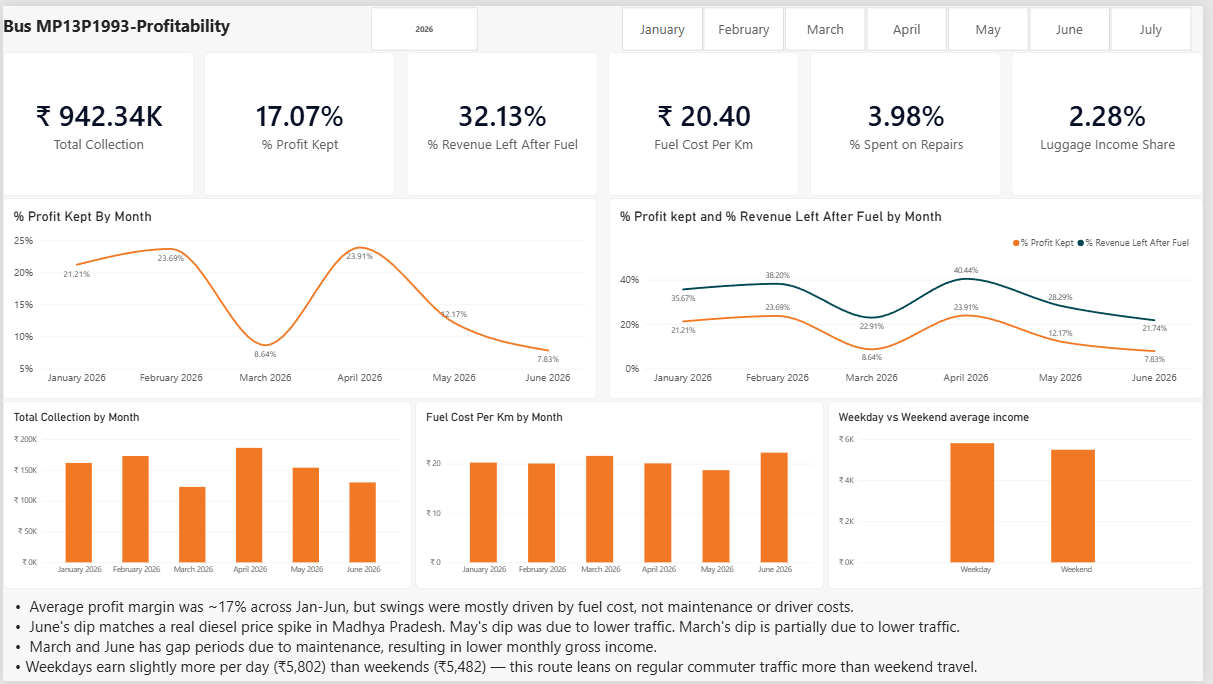

The page's visual inventory and layout, read from the dashboard file:
{"tool":"powerbi","page":{"name":"Page 1","canvas":[1920,1080],"ordinal":0},"visuals":[{"type":"cardVisual","fields":{"Data":["_Measures.Gross_Income"]},"box":[0,73.6,305,230],"z":0},{"type":"cardVisual","fields":{"Data":["_Measures.Net_Profit_Margin"]},"box":[322.9,73.6,305,230],"z":1000},{"type":"cardVisual","fields":{"Data":["_Measures.Gross_Margin_Ex_Fuel"]},"box":[645.8,73.6,305,230],"z":2000},{"type":"cardVisual","fields":{"Data":["_Measures.Fuel_Cost_Per_Km"]},"box":[968.7,73.6,305,230],"z":3000},{"type":"cardVisual","fields":{"Data":["_Measures.Maintenance_Exp_Share"]},"box":[1291.6,73.6,305,230],"z":4000},{"type":"cardVisual","fields":{"Data":["_Measures.Luggage_Revenue_Share"]},"box":[1614.5,73.6,305,230],"z":5000},{"type":"lineChart","title":"% Profit Kept By Month","fields":{"Category":["Calendar.MonthYear"],"Y":["_Measures.Net_Profit_Margin"]},"box":[0,307,950,320],"z":6000},{"type":"lineChart","title":"% Profit kept and % Revenue Left After Fuel by Month","fields":{"Category":["Calendar.MonthYear"],"Y":["_Measures.Net_Profit_Margin","_Measures.Gross_Margin_Ex_Fuel"]},"box":[969.5,307,950,320],"z":7000},{"type":"clusteredColumnChart","title":"Total Collection by Month","fields":{"Category":["Calendar.MonthYear"],"Y":["_Measures.Gross_Income"]},"box":[0,632,653.3,300],"z":8000},{"type":"clusteredColumnChart","title":"Fuel Cost Per Km by Month","fields":{"Category":["Calendar.MonthYear"],"Y":["_Measures.Fuel_Cost_Per_Km"]},"box":[660,632,653.3,300],"z":9000},{"type":"clusteredColumnChart","title":"Weekday vs Weekend average income","fields":{"Category":["Calendar.IsWeekend"],"Y":["_Measures.Avg_Daily_Gross_Income"]},"box":[1320,632,600,300],"z":10000},{"type":"textbox","box":[0,13,1919.6,60.6],"z":11000},{"type":"slicer","fields":{"Values":["Calendar.Month Name"]},"box":[969.5,0,950.1,73.6],"z":12000},{"type":"slicer","fields":{"Values":["Calendar.Year"]},"box":[567,0,209.9,73.6],"z":13000},{"type":"textbox","box":[0,944.6,1920.1,135.7],"z":14000}]}

Visuals, with their boxes in screenshot pixels (x1, y1, x2, y2), scaled from the page's 1920x1080 canvas onto the 1213x684 screenshot:
cardVisual - _Measures.Gross_Income: bbox=[0, 47, 193, 192]
cardVisual - _Measures.Net_Profit_Margin: bbox=[204, 47, 397, 192]
cardVisual - _Measures.Gross_Margin_Ex_Fuel: bbox=[408, 47, 601, 192]
cardVisual - _Measures.Fuel_Cost_Per_Km: bbox=[612, 47, 805, 192]
cardVisual - _Measures.Maintenance_Exp_Share: bbox=[816, 47, 1009, 192]
cardVisual - _Measures.Luggage_Revenue_Share: bbox=[1020, 47, 1212, 192]
"% Profit Kept By Month" lineChart: bbox=[0, 194, 600, 397]
"% Profit kept and % Revenue Left After Fuel by Month" lineChart: bbox=[613, 194, 1212, 397]
"Total Collection by Month" clusteredColumnChart: bbox=[0, 400, 413, 590]
"Fuel Cost Per Km by Month" clusteredColumnChart: bbox=[417, 400, 830, 590]
"Weekday vs Weekend average income" clusteredColumnChart: bbox=[834, 400, 1212, 590]
textbox: bbox=[0, 8, 1212, 47]
slicer - Calendar.Month Name: bbox=[613, 0, 1212, 47]
slicer - Calendar.Year: bbox=[358, 0, 491, 47]
textbox: bbox=[0, 598, 1212, 683]
